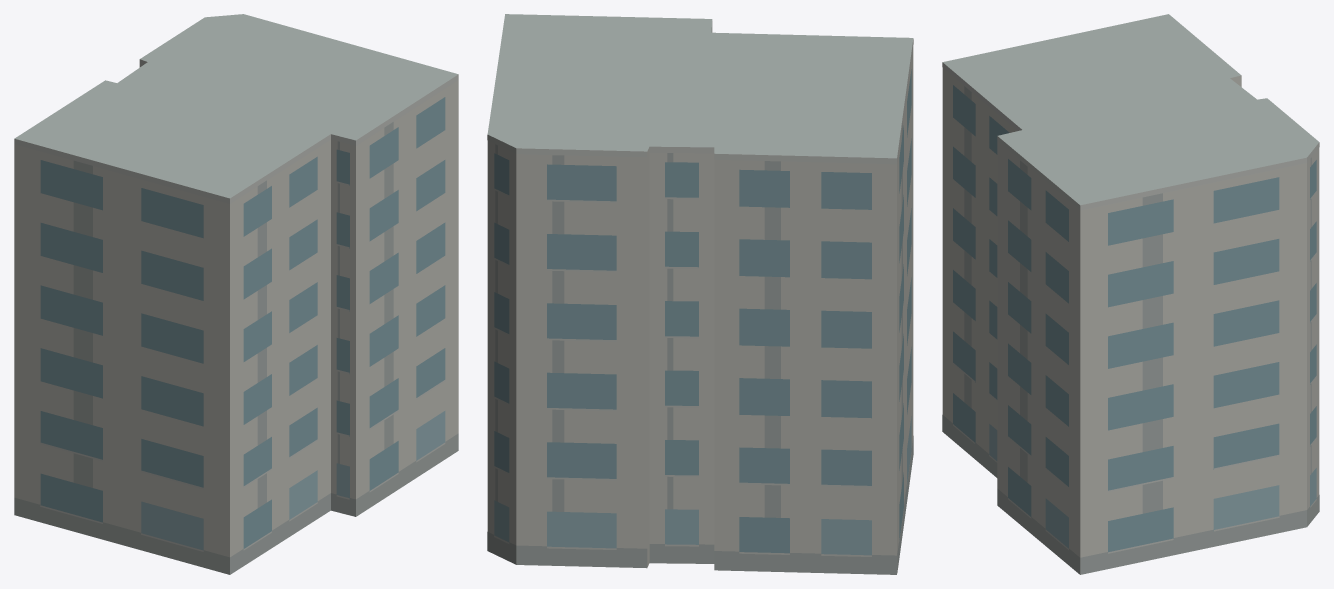
The model's file is survey-upis-32986451.glb.
3 views of the same model, side by side, from view 1: azimuth 30°, elevation 25°; view 2: azimuth 150°, elevation 25°; view 3: azimuth 270°, elevation 25° (orthographic). The views are drawn at different scales.
Parts seen in each view (by area): view 1: survey-upis-32986451.tmp; view 2: survey-upis-32986451.tmp; view 3: survey-upis-32986451.tmp.
Part boxes in pixels (x1,y1,x2,y2): survey-upis-32986451.tmp: [14, 14, 458, 574]; survey-upis-32986451.tmp: [487, 14, 913, 574]; survey-upis-32986451.tmp: [942, 14, 1319, 574].
Bounding box in the file's own units: 18.88 × 17 × 15.72.
